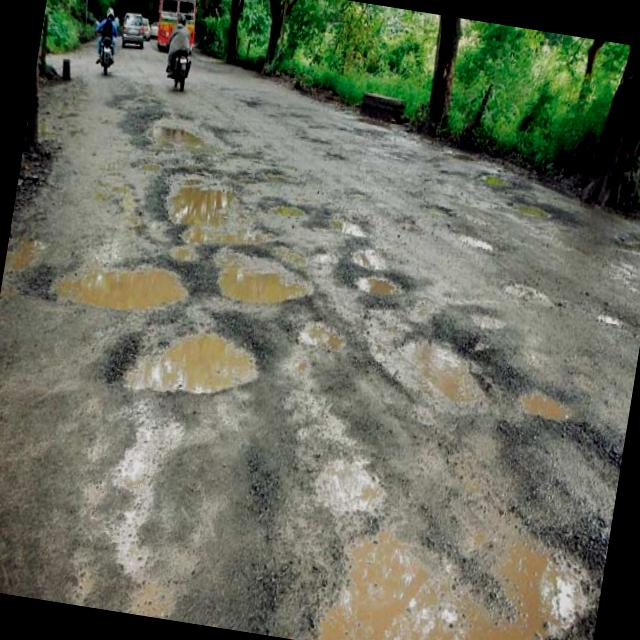bad-road: (310, 506, 602, 640), (118, 319, 266, 411), (380, 326, 504, 420), (50, 250, 193, 320), (159, 165, 258, 243), (210, 246, 320, 314), (144, 109, 236, 160), (294, 316, 351, 353), (519, 386, 575, 422), (6, 230, 49, 276), (348, 270, 410, 301), (508, 195, 559, 223), (266, 196, 310, 222), (477, 171, 518, 194), (611, 228, 640, 258)
